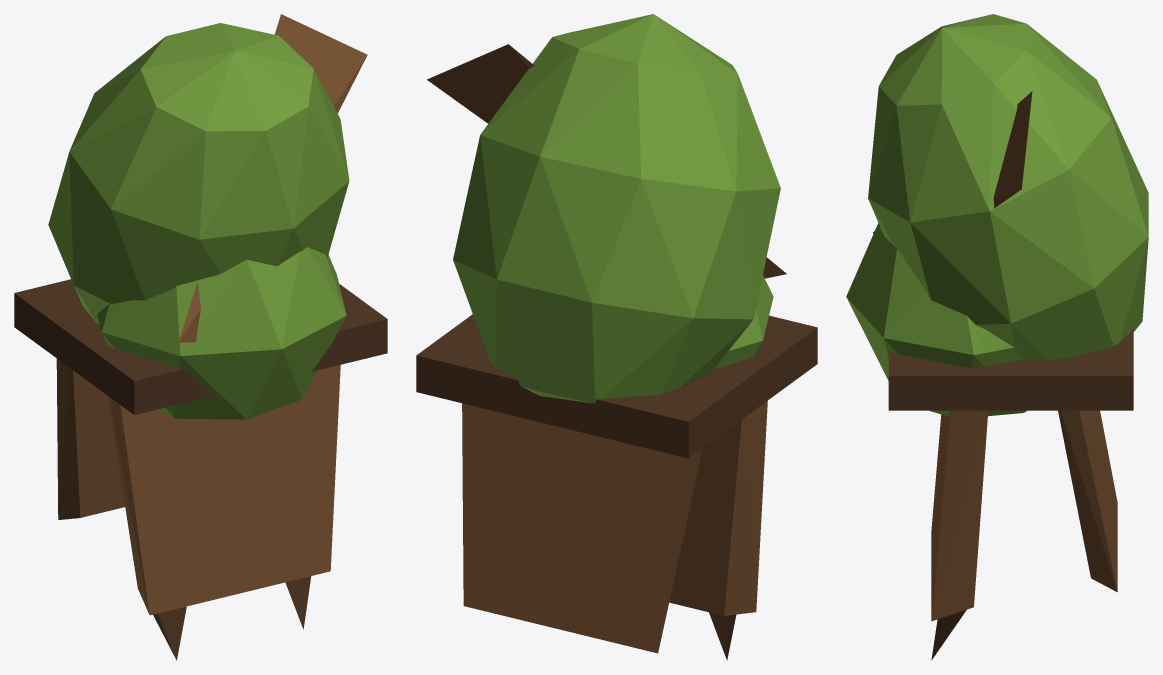
Rendered from goblin_0_body.glb.
3 renders of one model, left to right at view 1: azimuth 30°, elevation 25°; view 2: azimuth 150°, elevation 25°; view 3: azimuth 270°, elevation 25°, orthographic. The views are drawn at different scales.
Visible parts, largest first — view 1: goblin_0_body; view 2: goblin_0_body; view 3: goblin_0_body.
Part boxes in pixels (x1=…): goblin_0_body: x1=14, y1=14, x2=387, y2=660; goblin_0_body: x1=416, y1=14, x2=817, y2=660; goblin_0_body: x1=846, y1=14, x2=1148, y2=660.
Size of the model in its own units: 0.3305 by 0.6235 by 0.2843.
